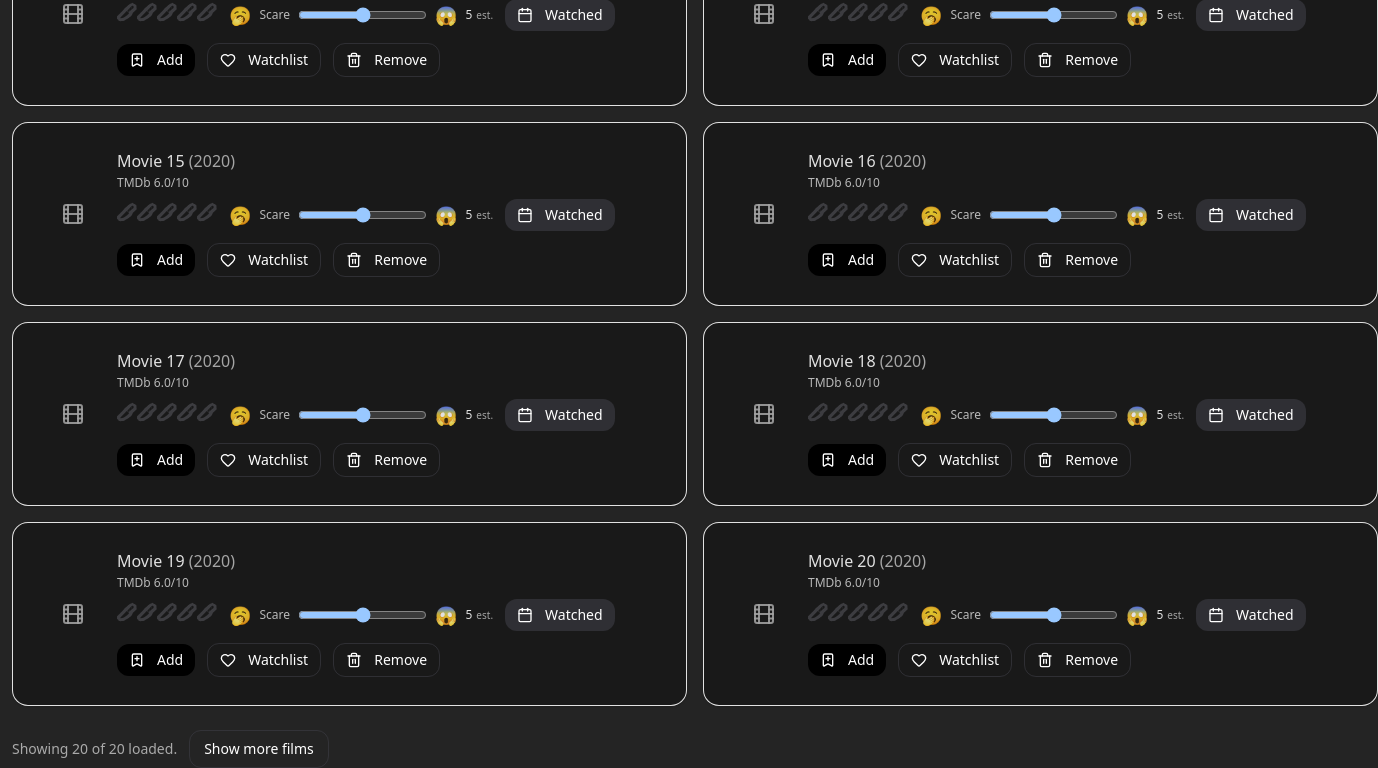
Test: Discover: Show more films › adds the next page below, without repeating a film
(page scrolled)
Click the button "Show more films" at (259, 749), box [189,730,329,767]
(page scrolled)
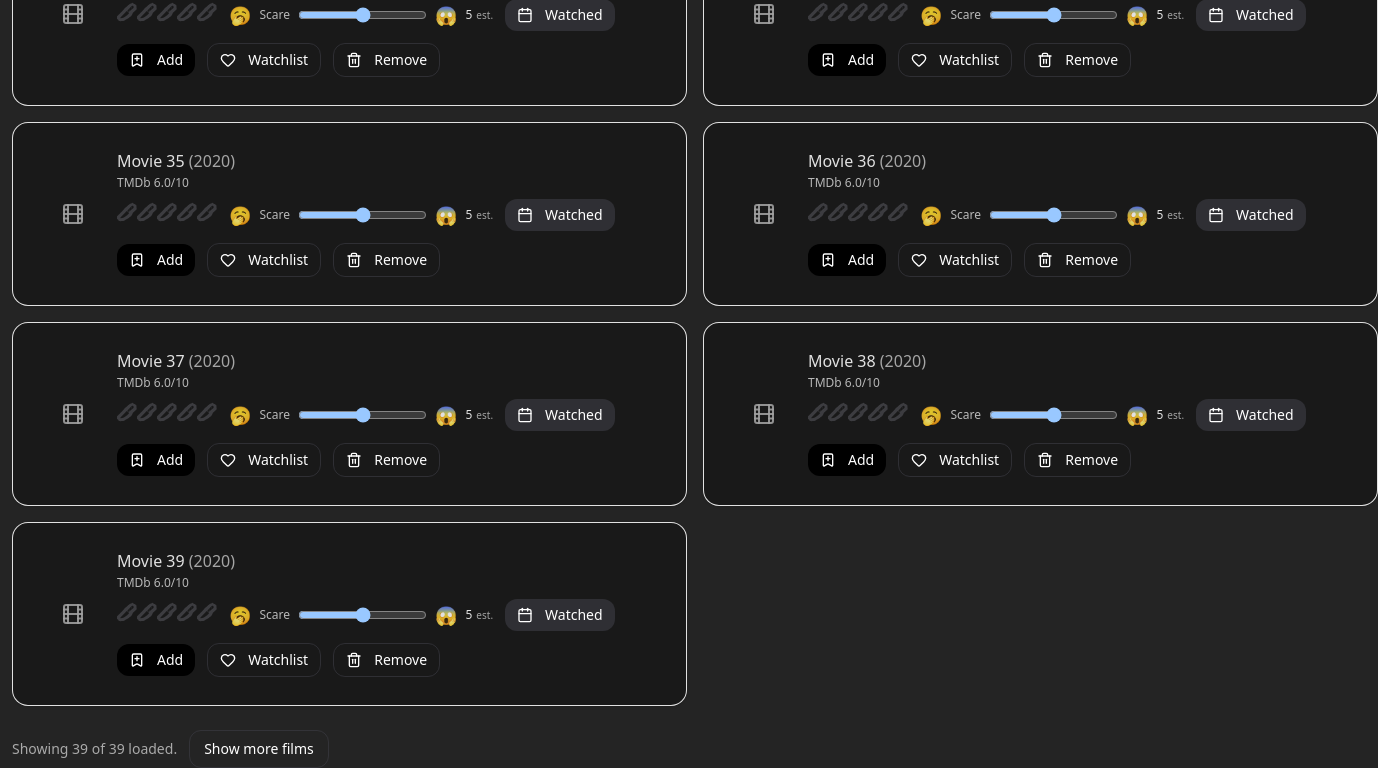
Expected: the text "Showing 39 of 39 loaded." is shown, [12,739,177,759]
